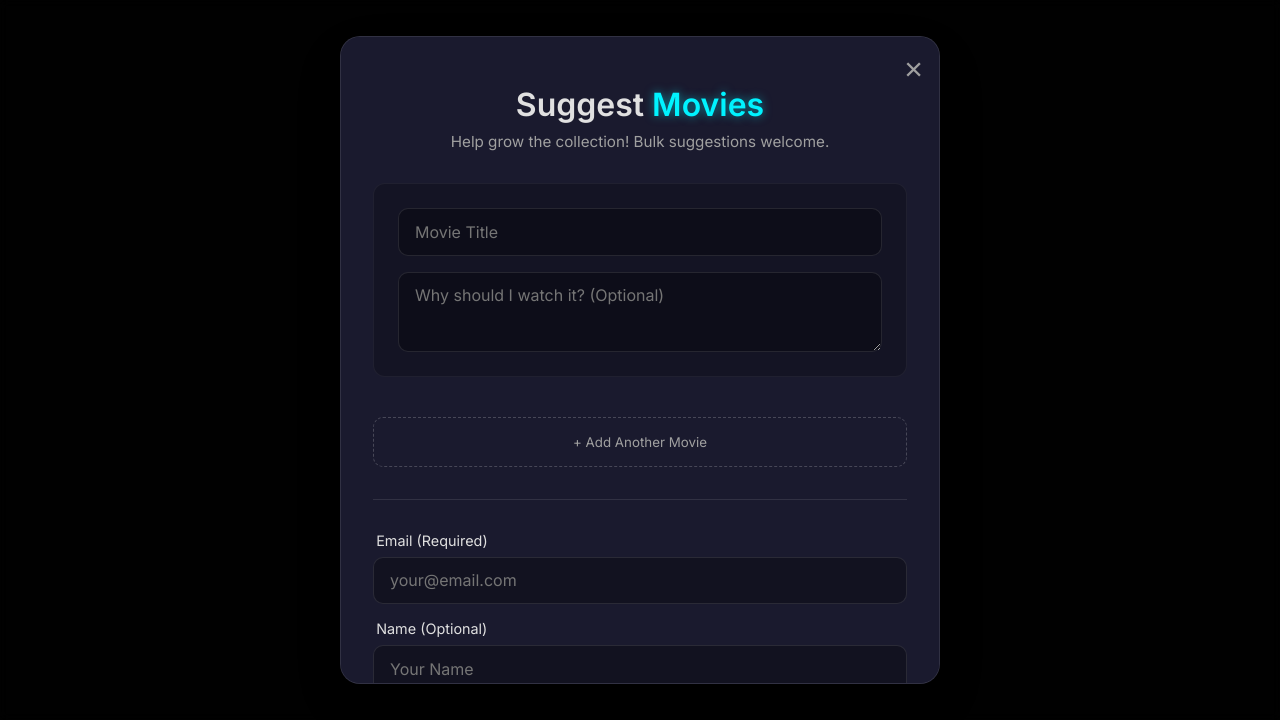
Scenario: SuggestionForm Component › submits form successfully with valid data
Fill Title
In the field with placeholder "Movie Title": (640, 232) [398,208,882,256], type "Inception 2"
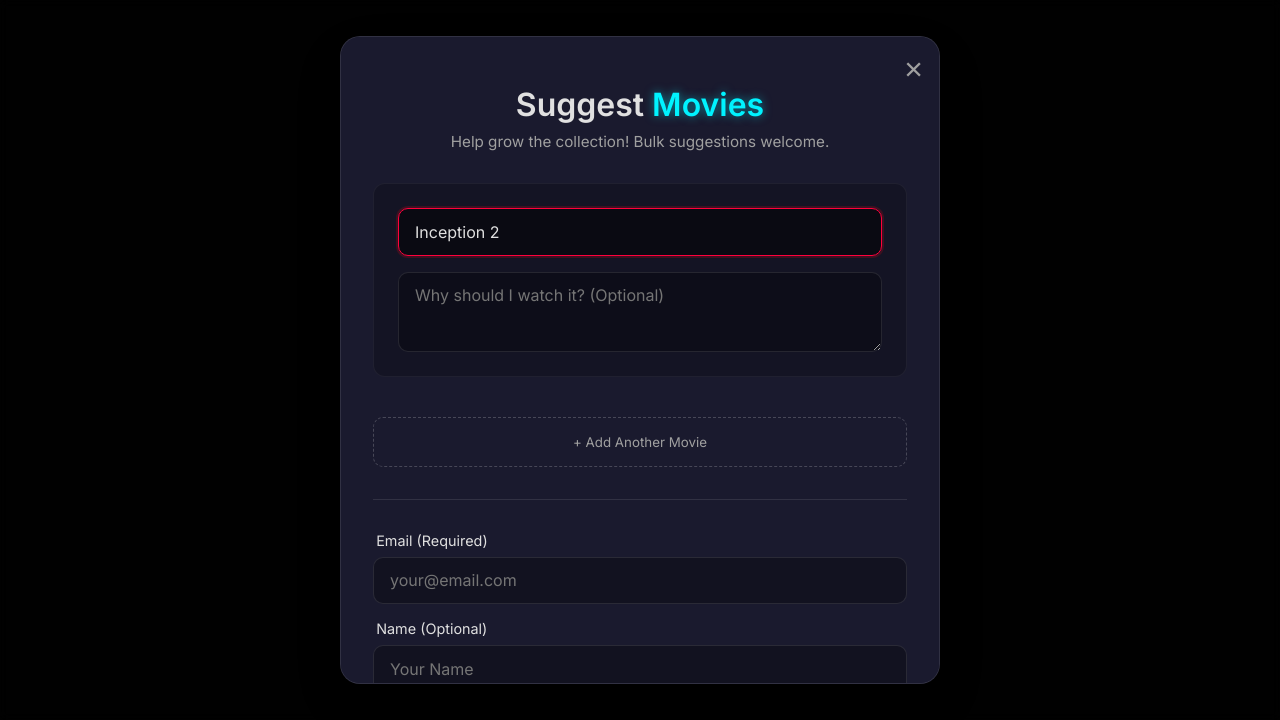
Fill Email
In the field with placeholder "your@email.com": (640, 580) [373,557,907,604], type "valid@gmail.com"
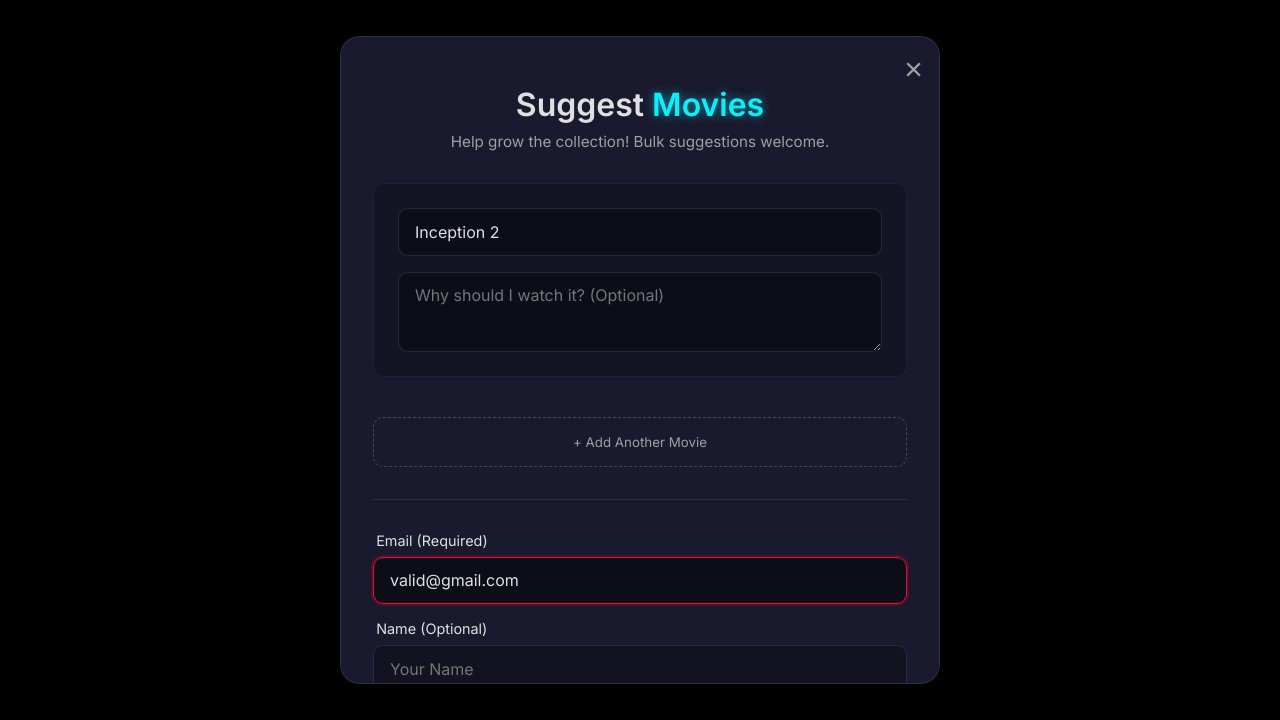
Leave the field with placeholder "your@email.com", box [373,557,907,604]
(page scrolled)
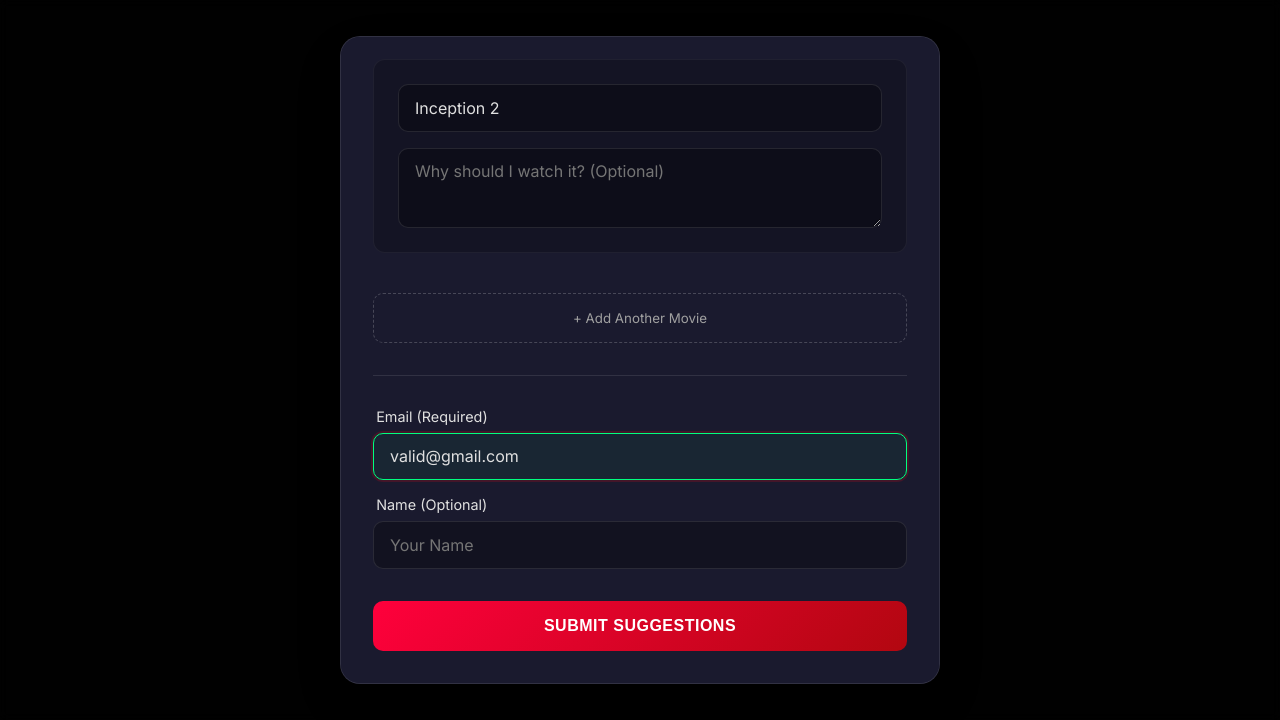
Result: the button "Submit Suggestions" is enabled
Click the button "Submit Suggestions": (640, 626) [373,601,907,651]
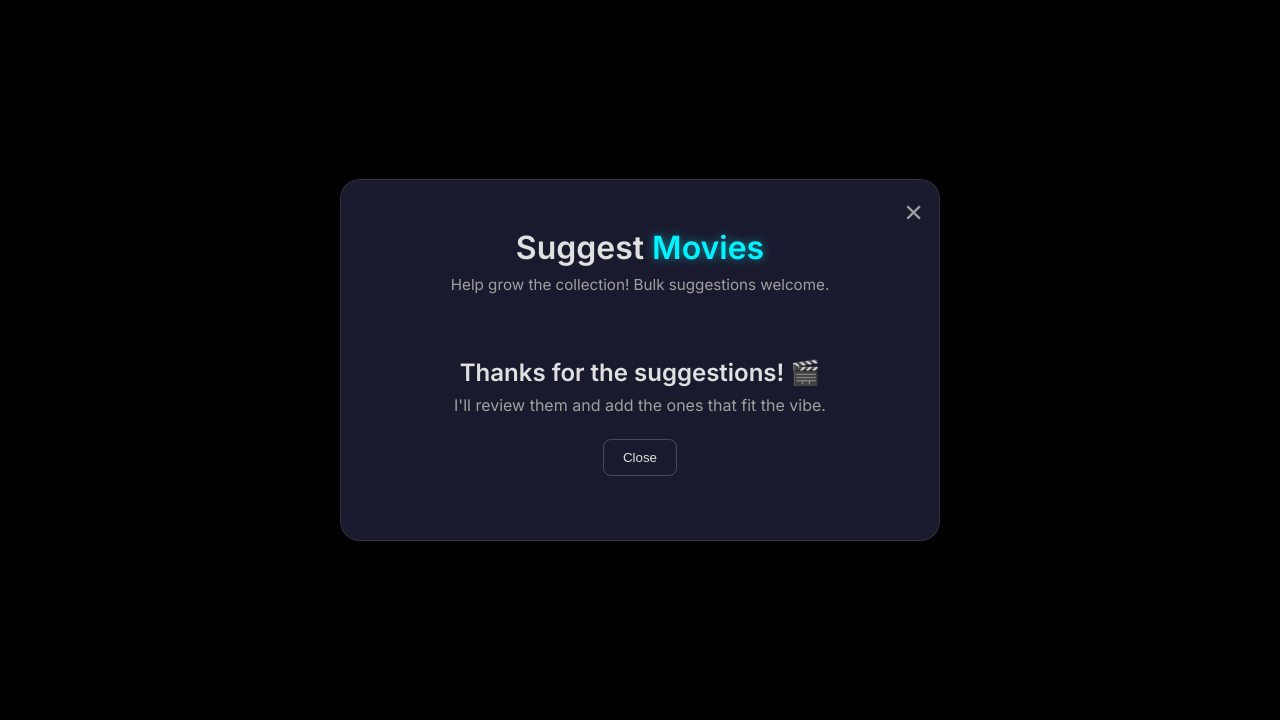
Result: the heading "Thanks for the suggestions! 🎬" is shown at [460,358,820,387]
